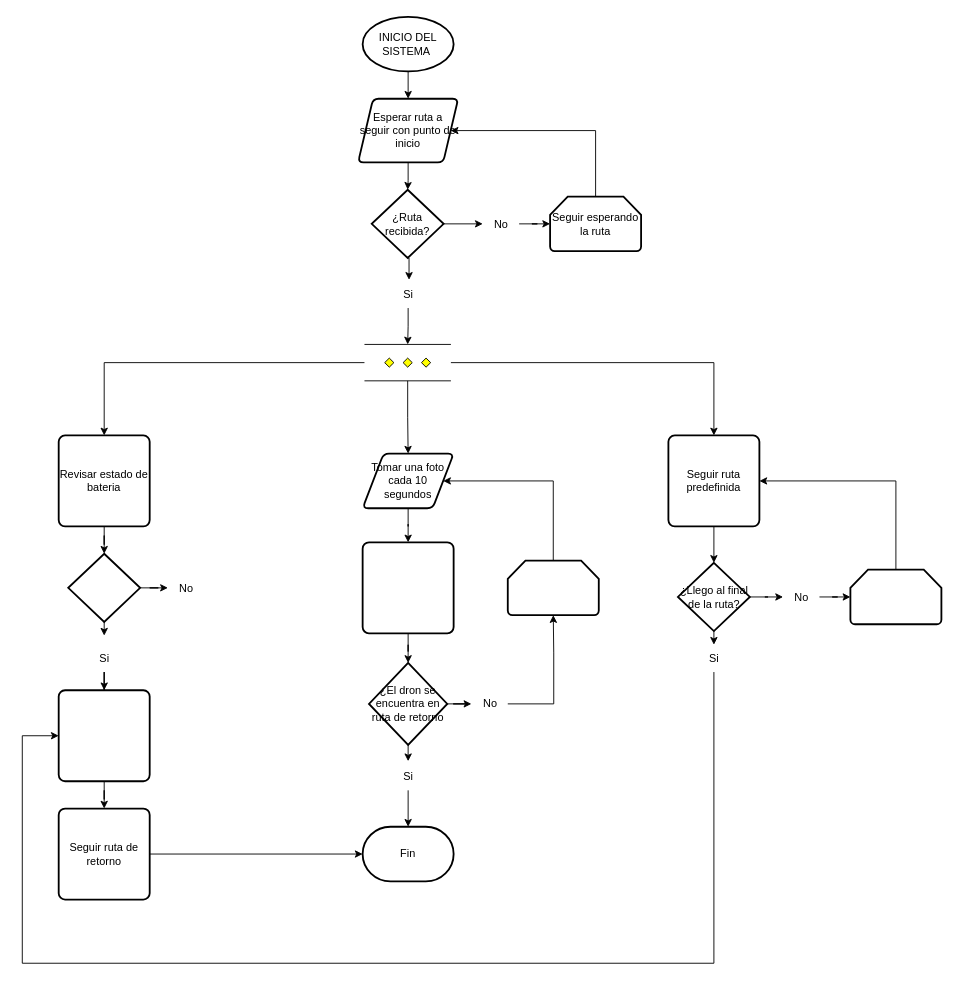
Some shapes in this 958 by 986 pixel diagram are drawn without their labels. The box of each missing label's shape, as (x1, y1, x2, y2) in pixels:
Calcular ruta de retorno desde el punto actual: (57, 689, 150, 782)
Enviar fotos al servidor junto con su ubicacion: (361, 541, 454, 634)
Ir al siguiente punto de la ruta: (849, 568, 942, 625)
Seguir tomando y enviando fotos: (506, 559, 599, 616)
¿Bateria comprometida?: (67, 552, 141, 622)
